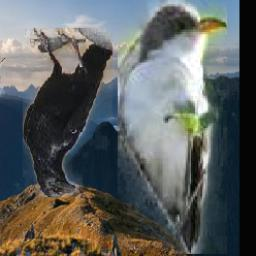Crow: (24, 28, 114, 197)
Cuckoo: (118, 0, 227, 254)
Sparrow: (0, 54, 6, 98)
